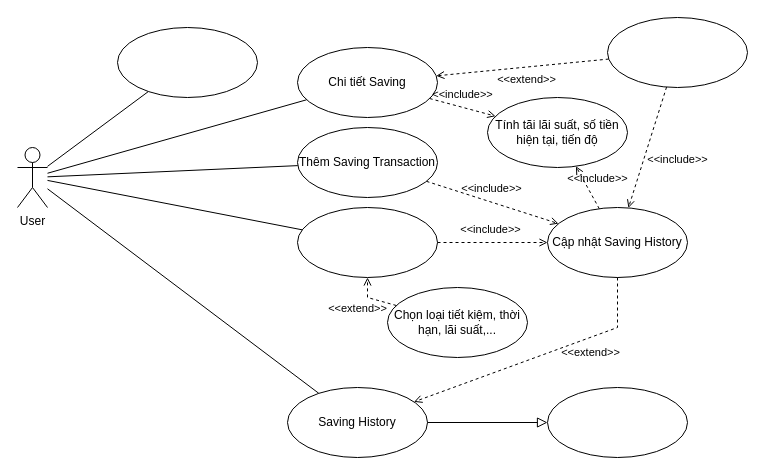
Some shapes in this 765 by 475 pixel diagram are drawn without their labels. Here are the shapes that lost their labels. From the top down, the box of each, then its label:
(116, 26, 258, 98): Saving Knowledge
(606, 16, 748, 88): Update thông tin Saving
(296, 206, 438, 278): Thêm Saving Account
(546, 386, 688, 458): Biểu đồ và thống kê
